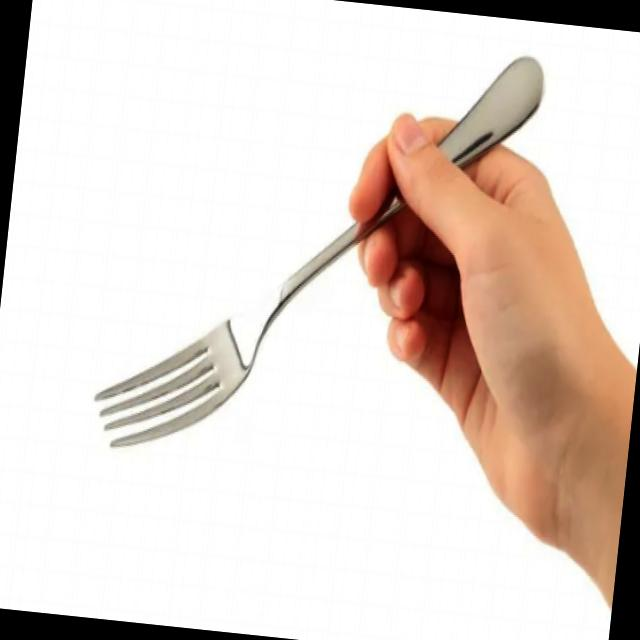fork: (89, 12, 548, 490)
